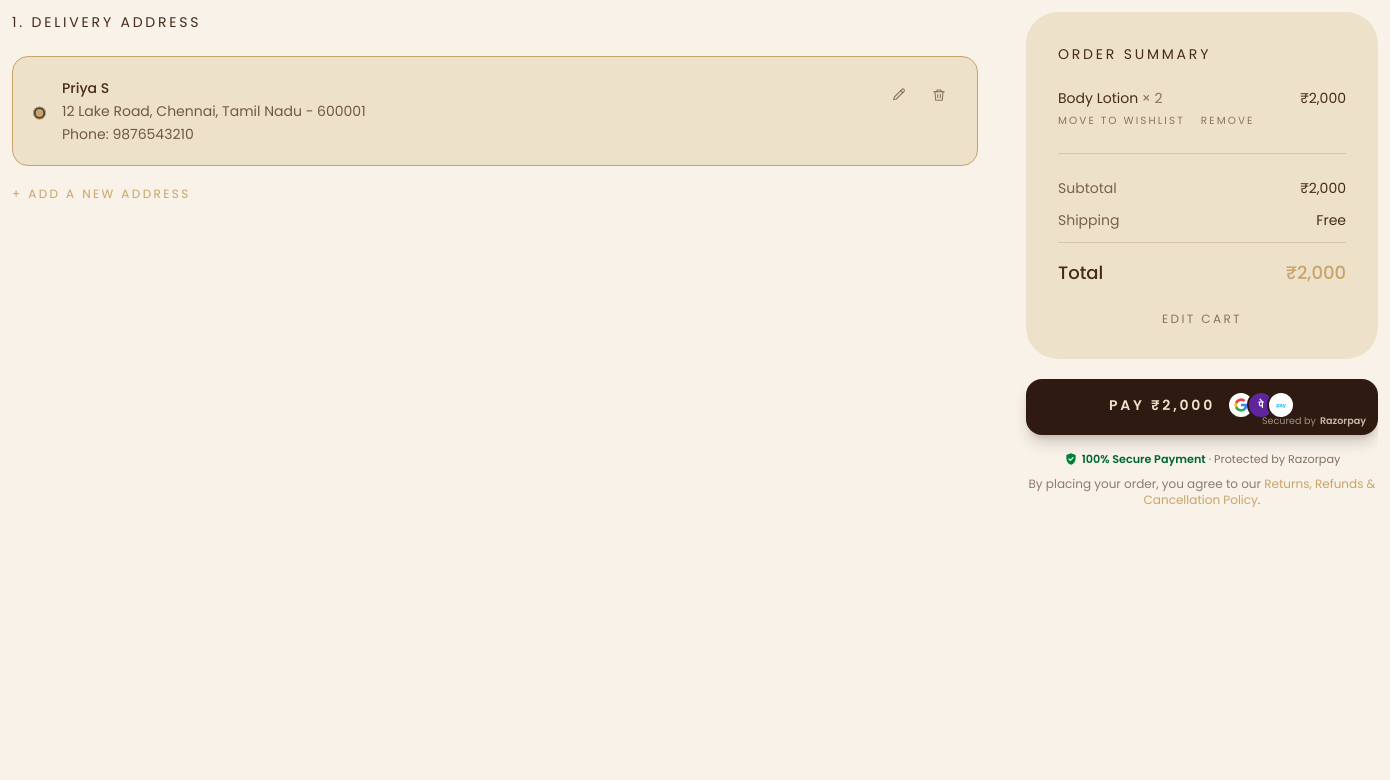
Test: CheckoutFlow › a problem creating the order is shown
Click the button "Pay ₹2,000 पे pay Secured by Razorpay". click: coordinates (1202, 407)
box: [1026, 379, 1378, 435]
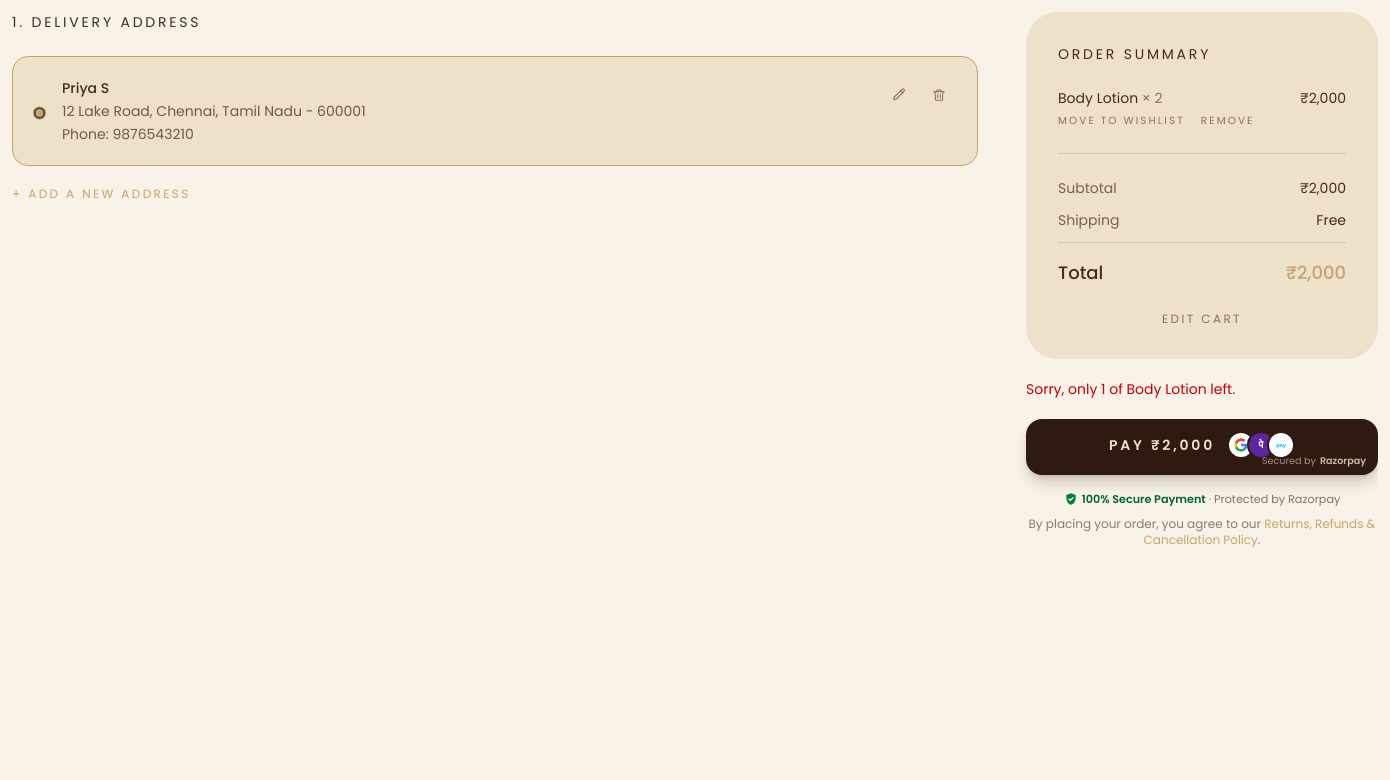
Now the message reads "Sorry, only 1 of Body Lotion left.", box [1026, 379, 1235, 399]
